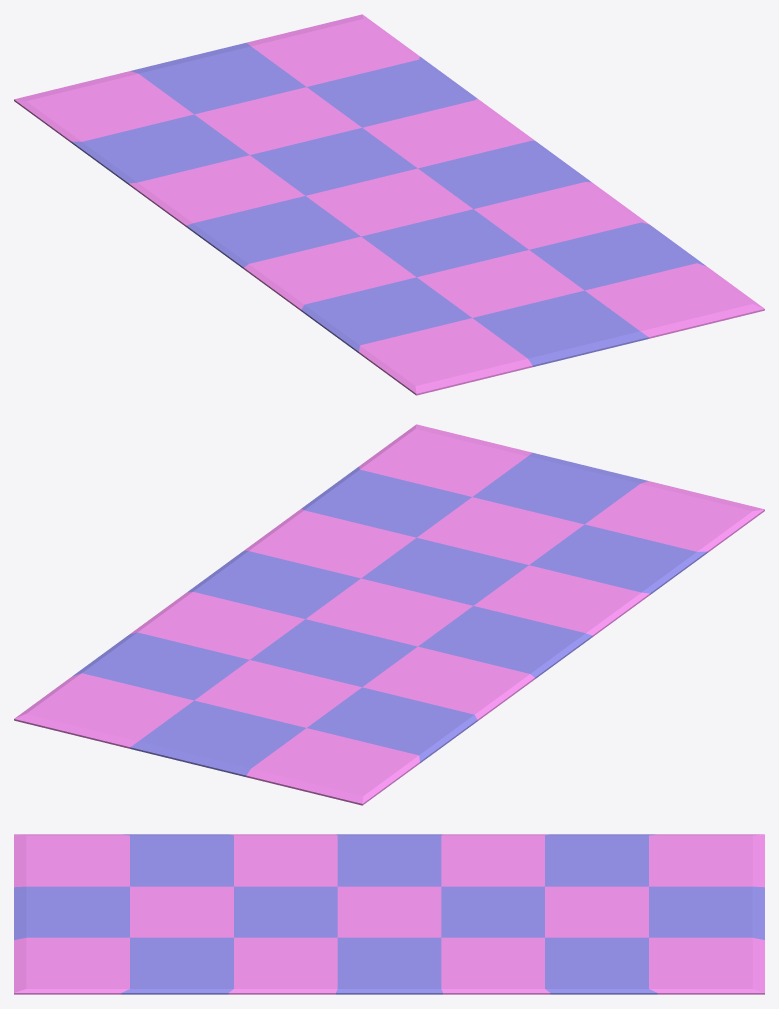
Rendered from Rug_Rectangle.fbx.
3 renders of one model, top to bottom at view 1: azimuth 30°, elevation 25°; view 2: azimuth 150°, elevation 25°; view 3: azimuth 270°, elevation 25°, orthographic. The views are drawn at different scales.
Visible parts, largest first — view 1: Rug_Rectangle; view 2: Rug_Rectangle; view 3: Rug_Rectangle.
Boxes of the visible parts, bbox=[...] form: Rug_Rectangle: bbox=[14, 14, 764, 395]; Rug_Rectangle: bbox=[14, 424, 764, 805]; Rug_Rectangle: bbox=[14, 834, 764, 994].
Size of the model in its own units: 207 by 1.88 by 414.
